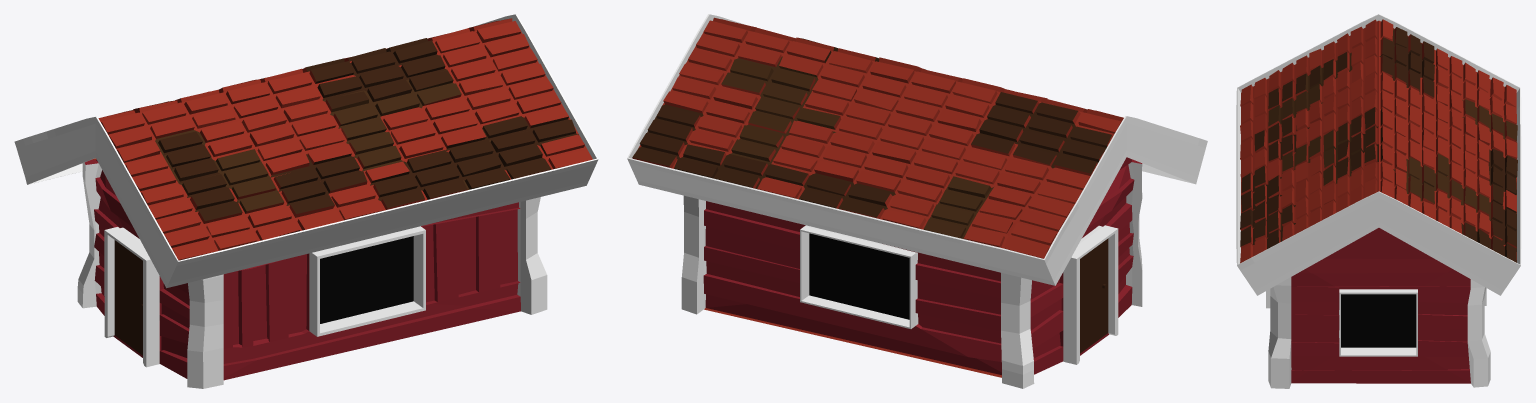
Rendered from Cabin.fbx.
3 views of the same model, side by side, from view 1: azimuth 30°, elevation 25°; view 2: azimuth 150°, elevation 25°; view 3: azimuth 270°, elevation 25° (orthographic). The views are drawn at different scales.
Parts seen in each view (by area): view 1: Cube; view 2: Cube; view 3: Cube.
Boxes of the visible parts, <box> form: Cube: <box>14,14,598,388</box>; Cube: <box>627,14,1207,388</box>; Cube: <box>1236,14,1521,388</box>.
Bounding box in the file's own units: 16.18 × 8.9 × 10.95.
